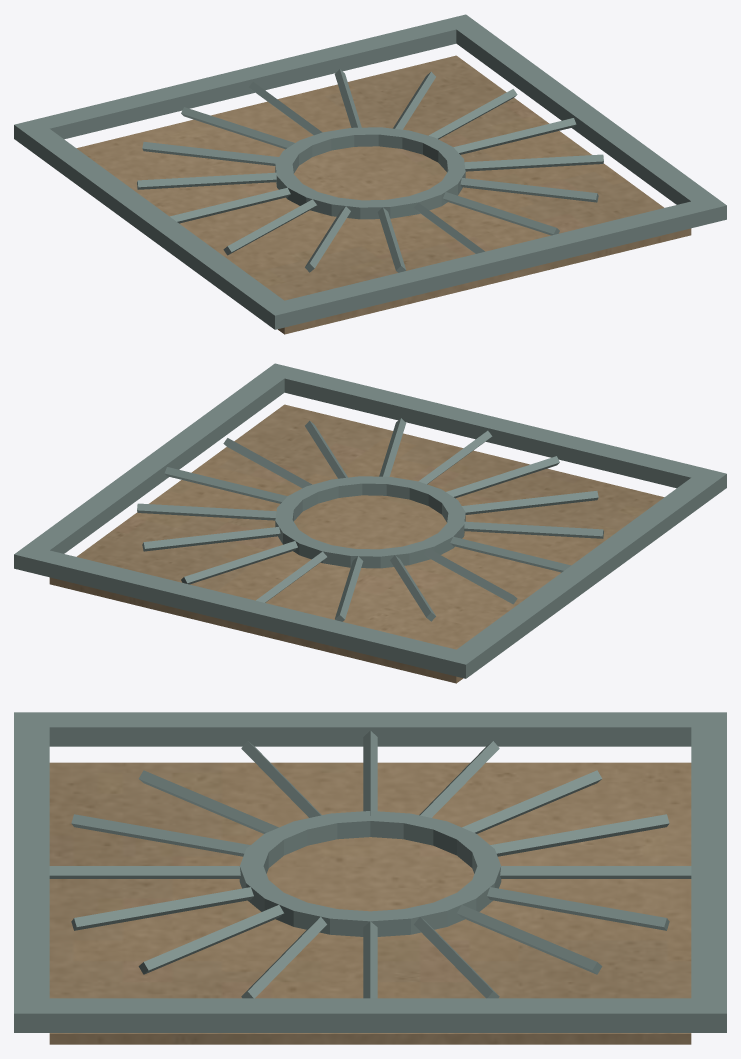
File: tree_grate.glb
The picture shows the model from 3 angles, top to bottom: view 1: azimuth 30°, elevation 25°; view 2: azimuth 150°, elevation 25°; view 3: azimuth 270°, elevation 25°; orthographic projection. The views are drawn at different scales.
Visible parts, largest first — view 1: tree_grate_cast, tree_grate_dirt; view 2: tree_grate_cast, tree_grate_dirt; view 3: tree_grate_dirt, tree_grate_cast.
Boxes of the visible parts, bbox=[...] form: tree_grate_cast: bbox=[14, 14, 726, 329]; tree_grate_dirt: bbox=[76, 55, 691, 334]; tree_grate_cast: bbox=[14, 363, 726, 678]; tree_grate_dirt: bbox=[49, 404, 664, 683]; tree_grate_dirt: bbox=[49, 762, 691, 1044]; tree_grate_cast: bbox=[14, 712, 726, 1032].
Size of the model in its own units: 1.2 by 0.086 by 1.2.
2 materials, 1 textured.
